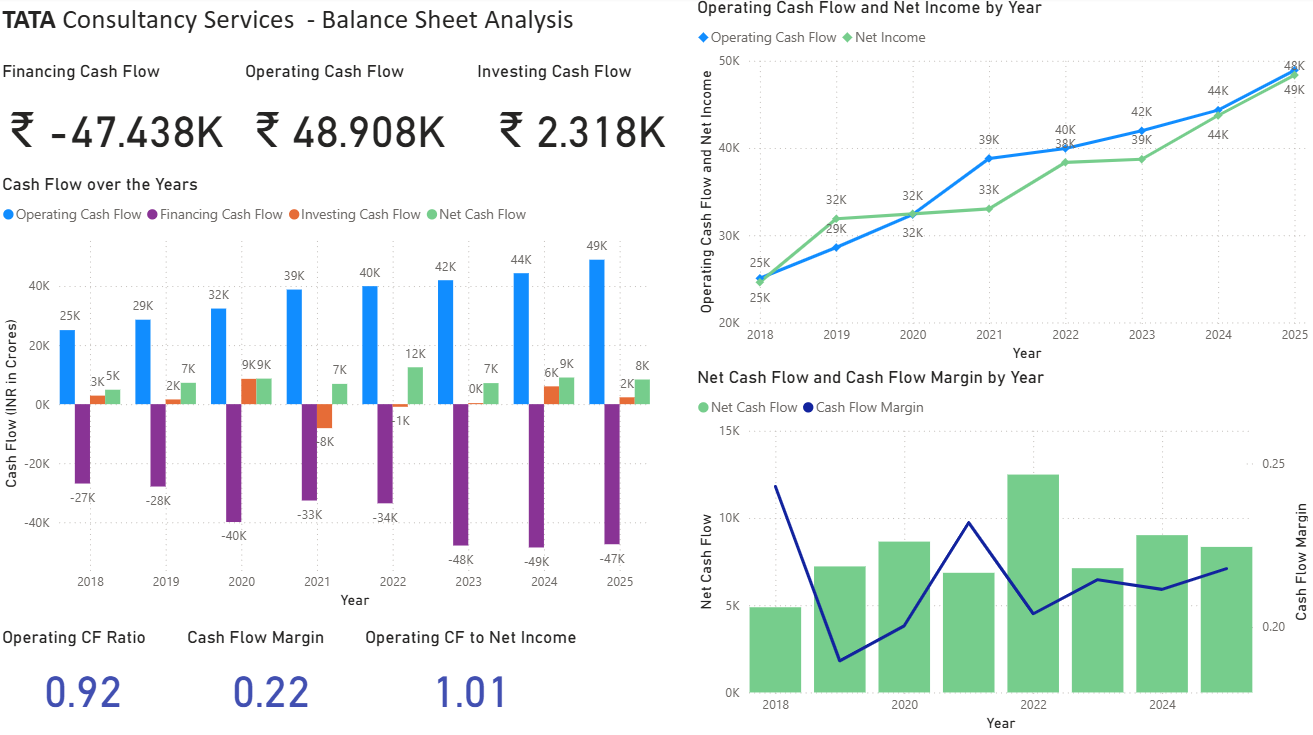

The dashboard page shown, as its layout file describes it:
{"tool":"powerbi","page":{"name":"Cash Flow Analysis","canvas":[1280,720],"ordinal":4},"visuals":[{"type":"textbox","box":[0,0,706.1,49.6],"z":0},{"type":"kpi","title":"Cash Flow Margin ","fields":{"Indicator":["Sum(CF.Cash Flow Margin)"],"TrendLine":["CF.Year"]},"box":[179.9,612.8,173.1,107],"z":1000},{"type":"kpi","title":"Operating CF Ratio","fields":{"Indicator":["Sum(CF.Operating CF Ratio)"],"TrendLine":["CF.Year"]},"box":[0,612.8,167.3,107],"z":2000},{"type":"lineChart","fields":{"Category":["CF.Year"],"Y":["Sum(CF.Operating Cash Flow)","Sum(P&L.Net Income)"]},"box":[676,0,604,359.9],"z":3000},{"type":"kpi","title":"Financing Cash Flow ","fields":{"Indicator":["Sum(CF.Financing Cash Flow)"],"TrendLine":["CF.Year"]},"box":[0,62.2,232.5,109.9],"z":4000},{"type":"kpi","title":"Investing Cash Flow","fields":{"Indicator":["Sum(CF.Investing Cash Flow)"],"TrendLine":["CF.Year"]},"box":[462,62.2,214,109.9],"z":5000},{"type":"kpi","title":"Operating Cash Flow ","fields":{"Indicator":["Sum(CF.Operating Cash Flow)"],"TrendLine":["CF.Year"]},"box":[236.4,62.2,214,109.9],"z":6000},{"type":"clusteredColumnChart","title":"Cash Flow over the Years","fields":{"Category":["CF.Year"],"Y":["Sum(CF.Operating Cash Flow)","Sum(CF.Financing Cash Flow)","Sum(CF.Investing Cash Flow)","Sum(CF.Net Cash Flow)"]},"box":[0,172.2,640,428],"z":7000},{"type":"kpi","title":"Operating CF to Net Income","fields":{"Indicator":["Sum(CF.OCF to Net Income)"],"TrendLine":["CF.Year"]},"box":[353.1,612.8,215.9,107],"z":8000},{"type":"lineClusteredColumnComboChart","fields":{"Y":["Sum(CF.Net Cash Flow)"],"Category":["CF.Year"],"Y2":["Sum(CF.Cash Flow Margin)"]},"box":[676,359.9,604,359.9],"z":9000}]}

Visuals, with their boxes in screenshot pixels (x1, y1, x2, y2), scaled from the page's 1280x720 canvas onto the 1313x735 screenshot:
textbox: <region>0, 0, 724, 51</region>
"Cash Flow Margin " kpi: <region>185, 626, 362, 734</region>
"Operating CF Ratio" kpi: <region>0, 626, 172, 734</region>
lineChart - CF.Year x Sum(CF.Operating Cash Flow): <region>693, 0, 1312, 367</region>
"Financing Cash Flow " kpi: <region>0, 63, 238, 176</region>
"Investing Cash Flow" kpi: <region>474, 63, 693, 176</region>
"Operating Cash Flow " kpi: <region>242, 63, 462, 176</region>
"Cash Flow over the Years" clusteredColumnChart: <region>0, 176, 656, 613</region>
"Operating CF to Net Income" kpi: <region>362, 626, 584, 734</region>
lineClusteredColumnComboChart - Sum(CF.Net Cash Flow) x CF.Year: <region>693, 367, 1312, 734</region>
